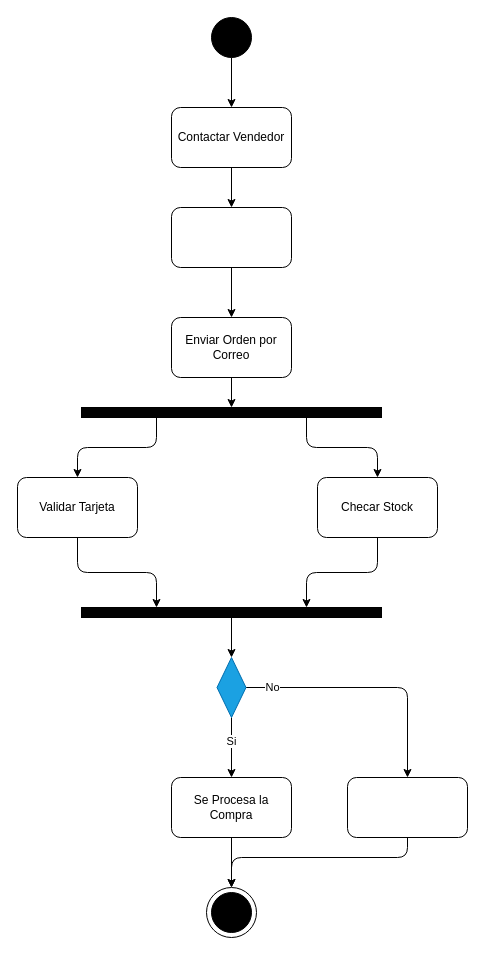
The diagram is 485 pixels wide and 955 high, and some of its shapes have lost their labels. Here are the shapes that lost their labels. From the top down, the centre of each, then its label:
At pixel 231 237: "Acordar Precio".
At pixel 407 807: "Se Cancela la Orden".
